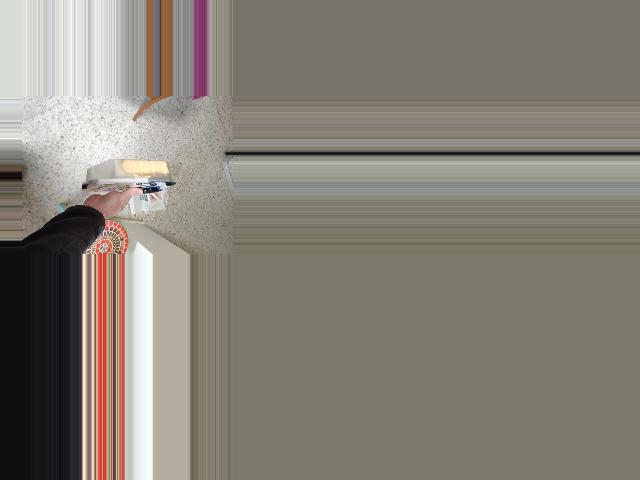cheese: (76, 151, 174, 245)
